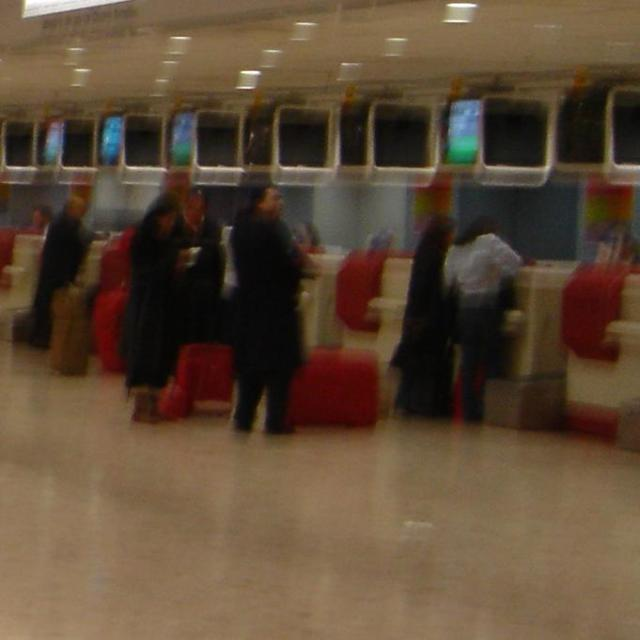non-fight: (204, 174, 333, 448), (117, 189, 201, 412)
